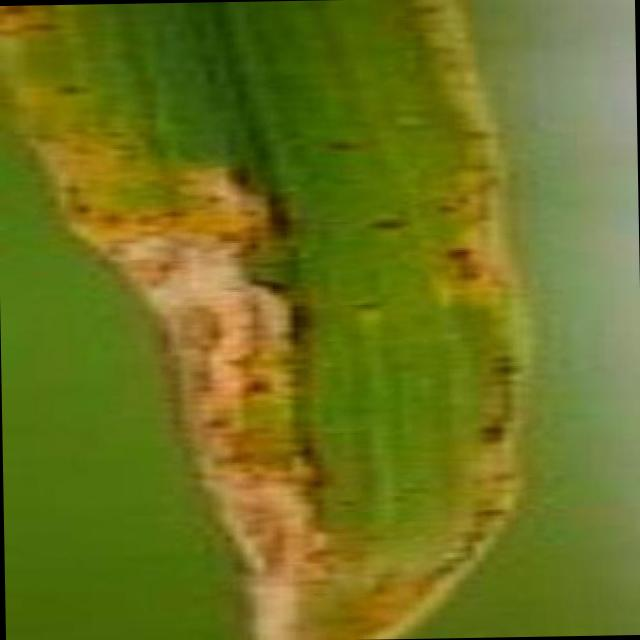Rice_Bacterial_Blight: (84, 8, 509, 620)
